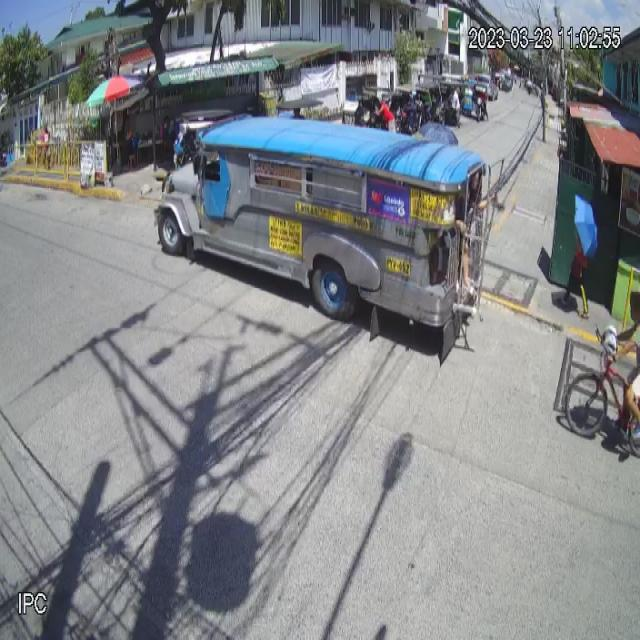Jeep: (157, 115, 487, 364)
